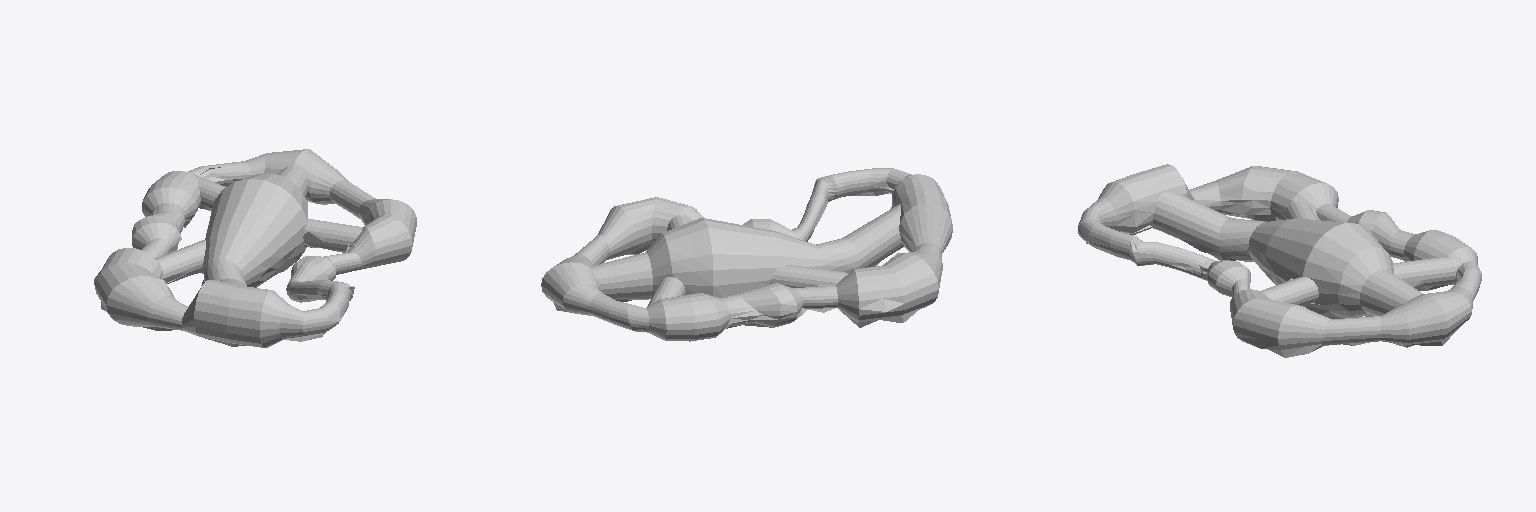
Rendered from map_final_01.obj.
3 views of the same model, side by side, from view 1: azimuth 30°, elevation 25°; view 2: azimuth 150°, elevation 25°; view 3: azimuth 270°, elevation 25° (orthographic).
Parts seen in each view (by area): view 1: map_final:pPipe10; view 2: map_final:pPipe10; view 3: map_final:pPipe10.
Part boxes in pixels (x1,y1,x2,y2): map_final:pPipe10: (94,149,416,347); map_final:pPipe10: (541,168,952,341); map_final:pPipe10: (1078,164,1481,357).
Size of the model in its own units: 361 by 101 by 395.